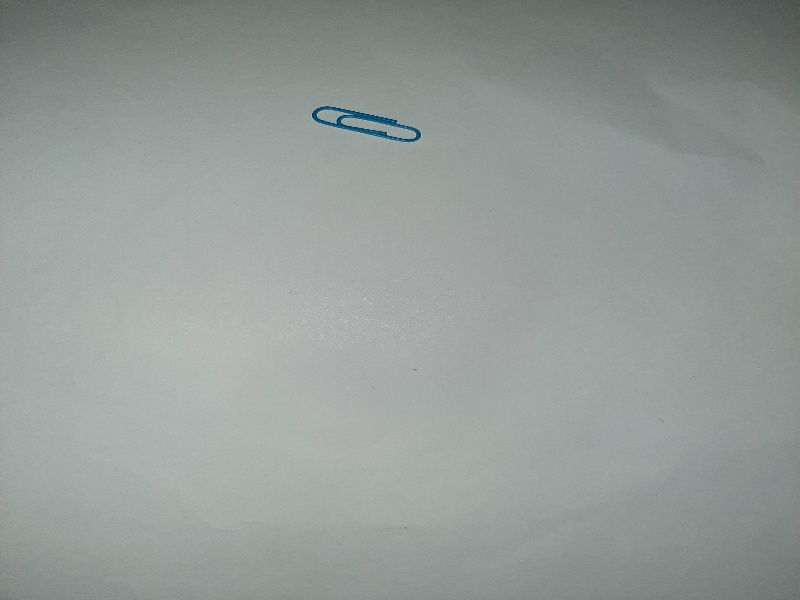Small Jumpclip: (304, 96, 426, 152)
